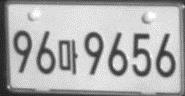5: (131, 32, 153, 77)
6: (154, 32, 176, 79), (106, 32, 129, 76), (36, 31, 56, 75)
9: (12, 30, 35, 73), (84, 30, 104, 74)
마: (57, 37, 79, 76)
